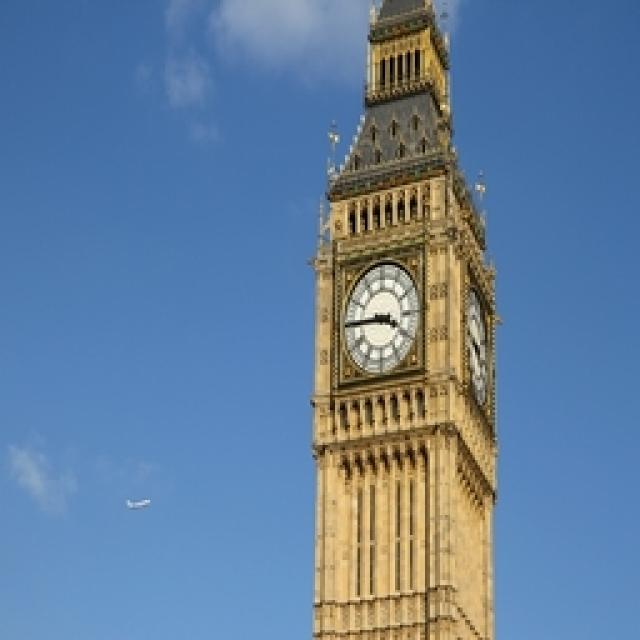Abbey: (301, 1, 509, 639)
